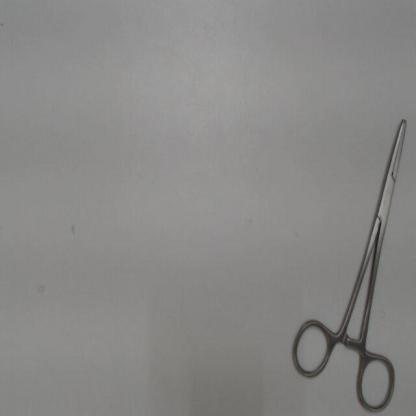Mayo Needle Holder: (288, 111, 413, 412)
